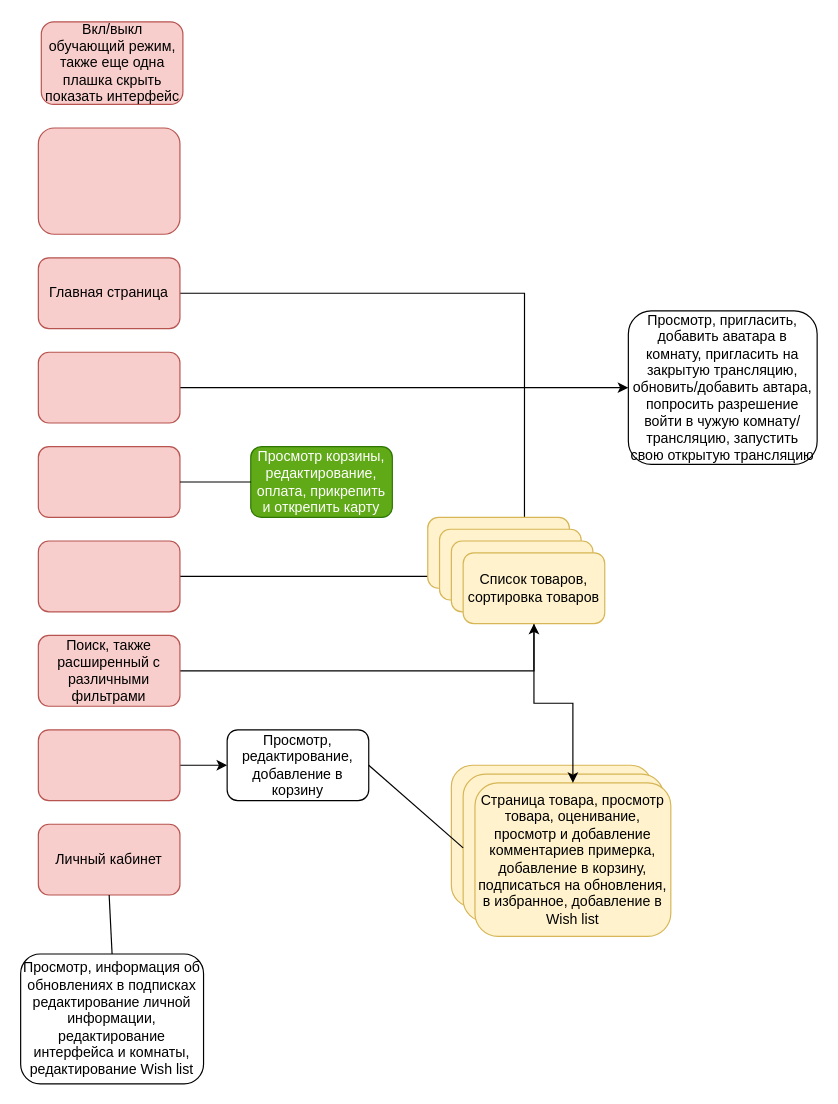
The diagram is 838 pixels wide and 1104 high, and some of its shapes have lost their labels. Each missing label, with the box of its shape:
Голосовой помощник(может все, можно поставить свою фразу для активации: (37, 127, 180, 234)
Избранное: (37, 729, 180, 801)
Категории: (37, 540, 180, 612)
Корзина: (37, 445, 180, 517)
Список контактов: (37, 351, 180, 423)
